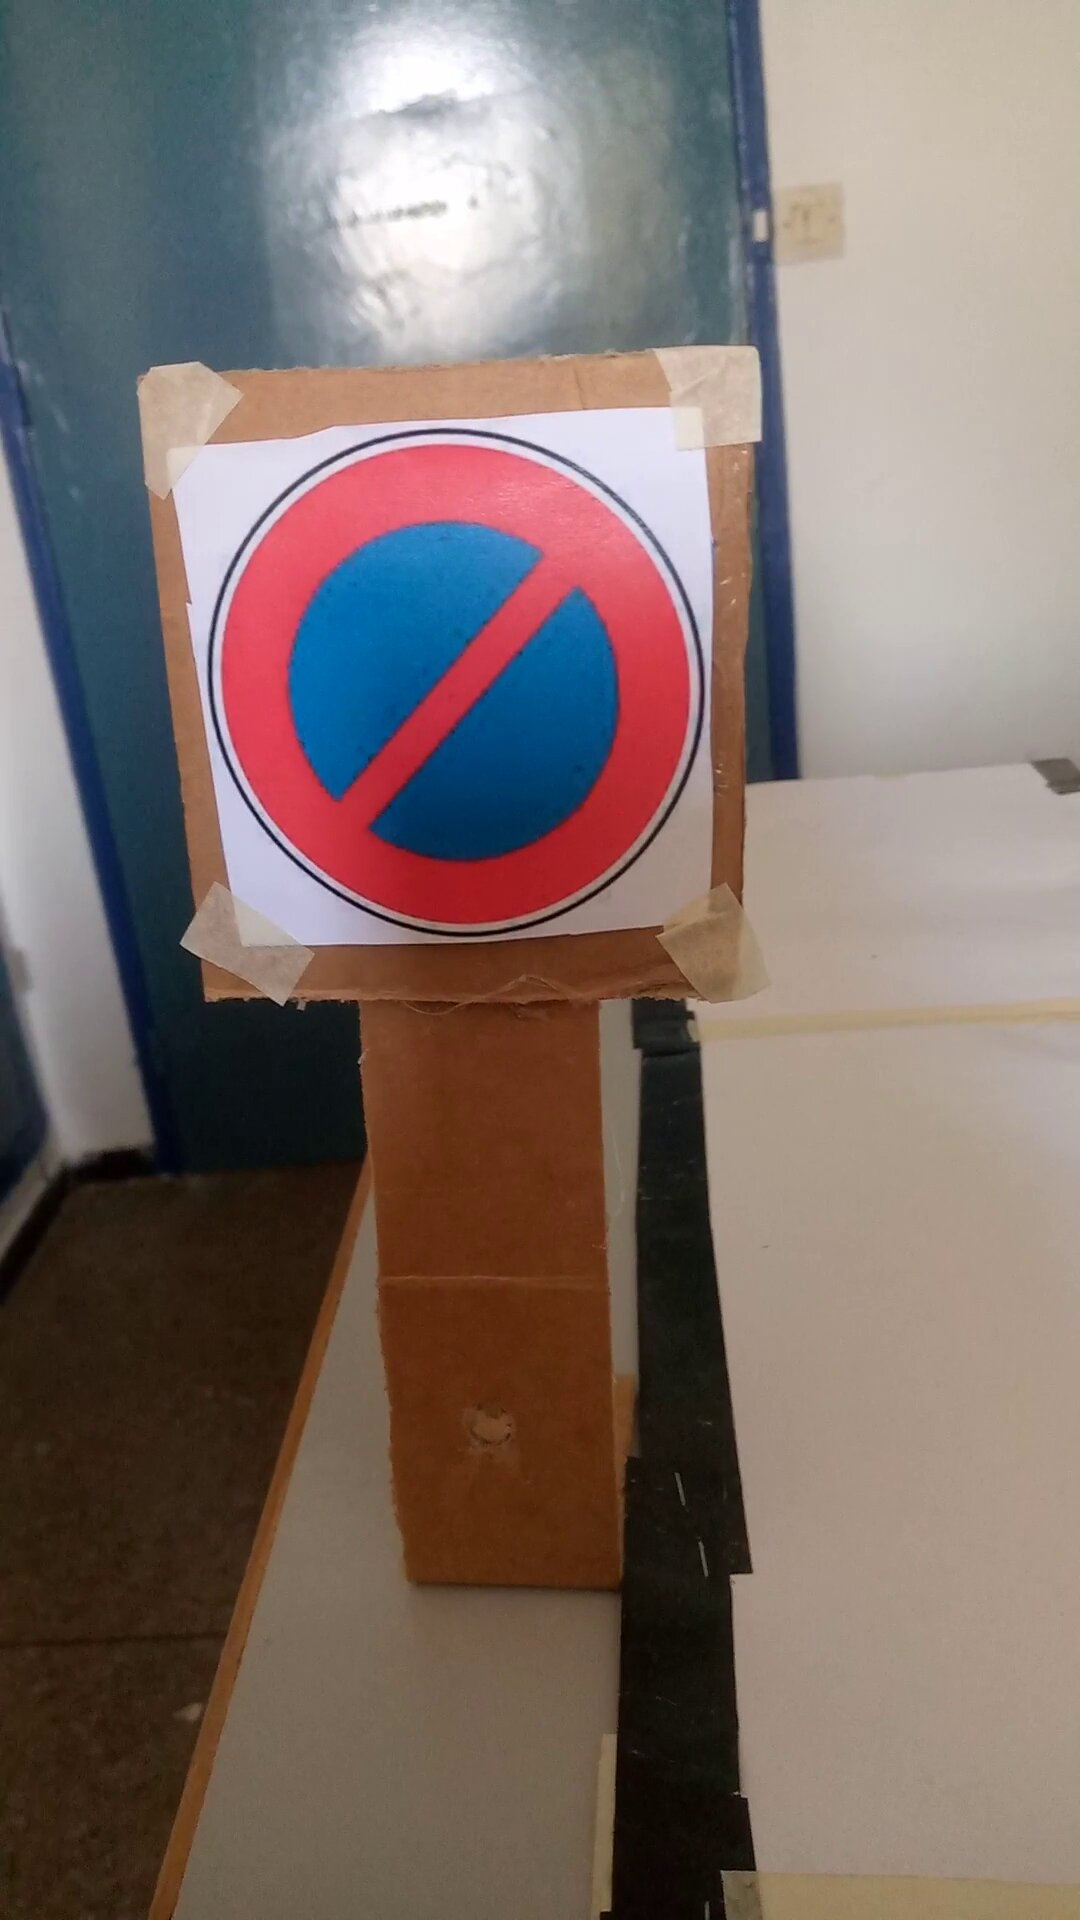panel110: (161, 436, 735, 943)
